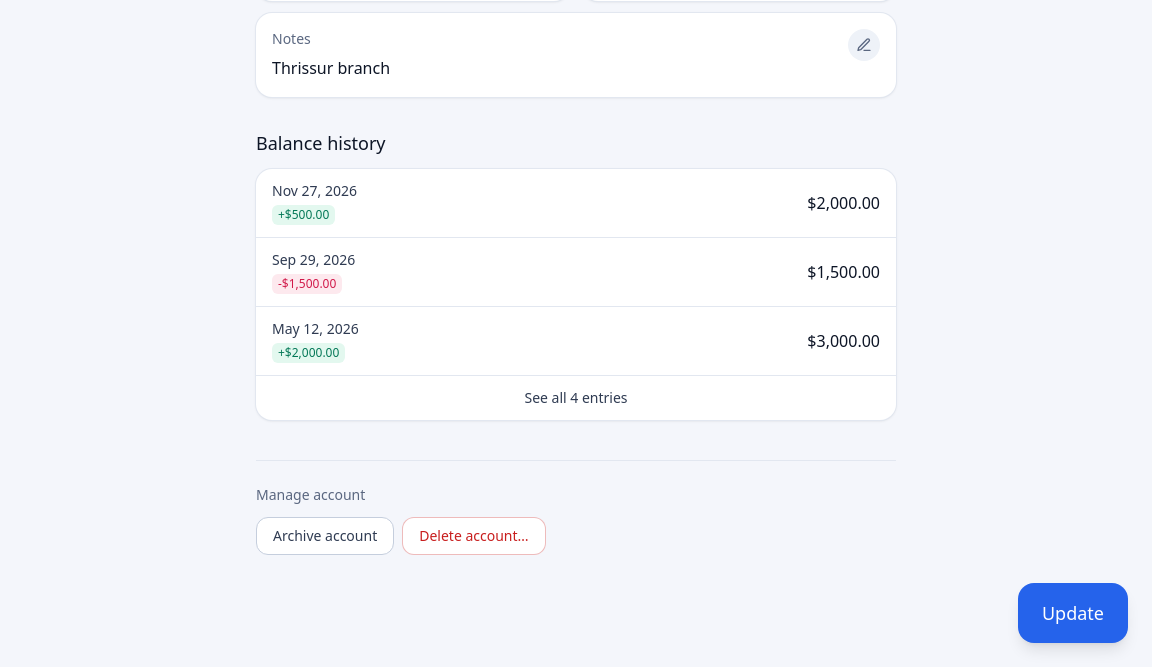
AccountDetailsPage › shows three history entries and all on demand
(page scrolled)
Check: the number of buttons named "Edit balance for" is 3, box [256,169,896,237]; [256,238,896,306]; [256,307,896,375]
Click the button "See all 4 entries": click(576, 398) [256,375,896,420]
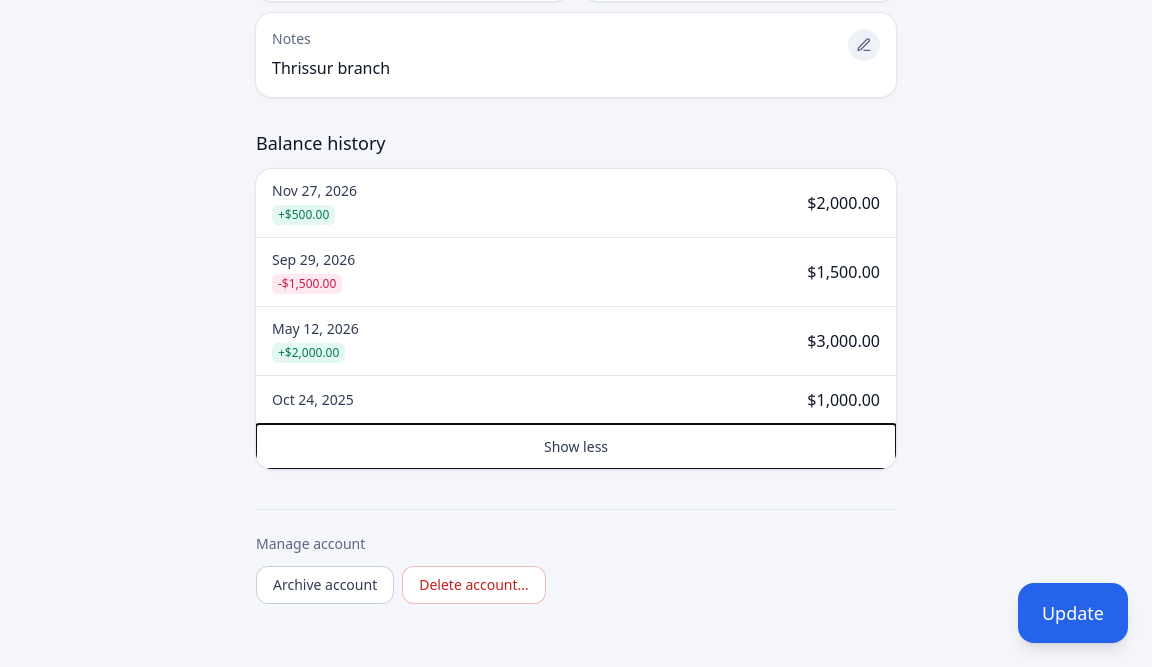
Check: the number of buttons named "Edit balance for" is 4, box [256,169,896,237]; [256,238,896,306]; [256,307,896,375]; [256,376,896,424]
Click the button "Show less": click(576, 446) [256,424,896,469]
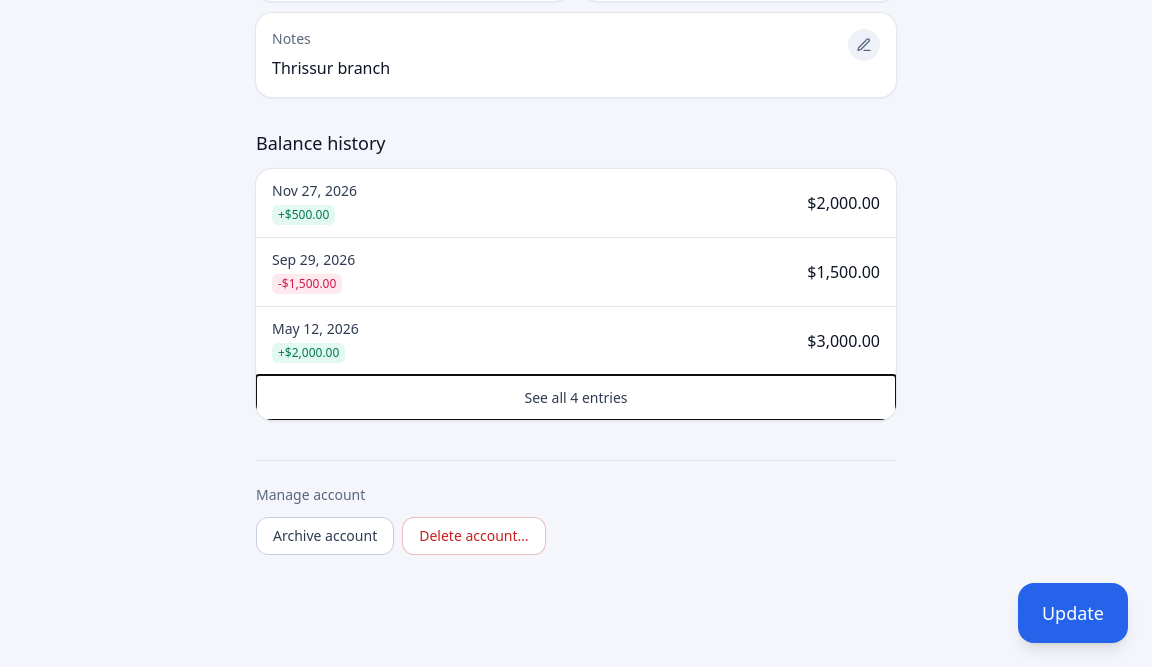
Check: the number of buttons named "Edit balance for" is 3, box [256,169,896,237]; [256,238,896,306]; [256,307,896,375]
